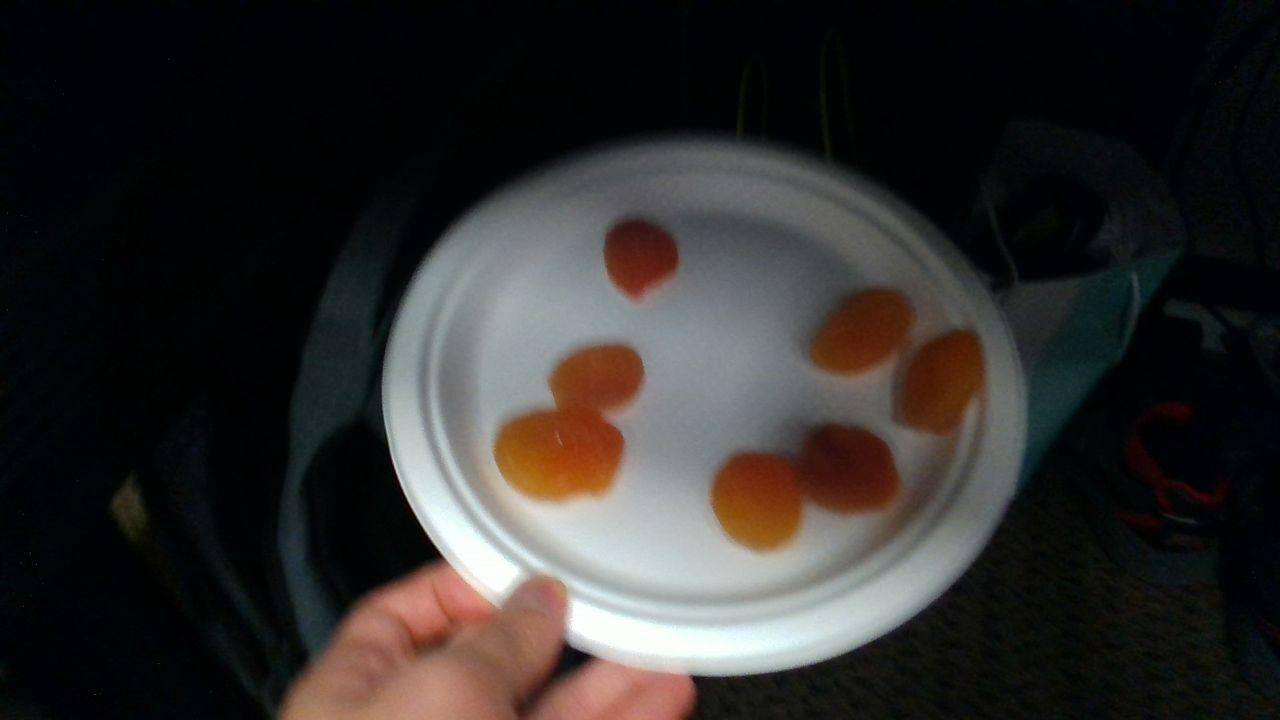apricot: (494, 413, 624, 500), (801, 426, 897, 513), (712, 456, 801, 549), (813, 292, 910, 373), (905, 332, 981, 434), (550, 345, 644, 411), (605, 222, 678, 298)
plate: (386, 139, 1027, 673)
